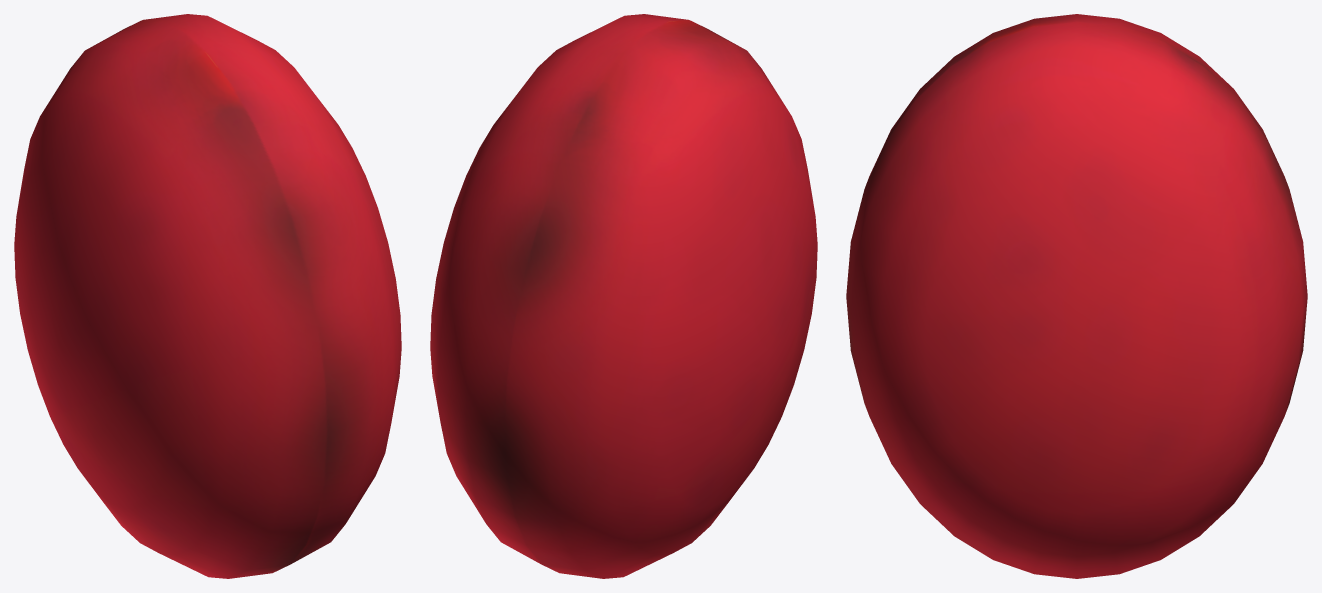
Rendered from SM_Gem_F_Gold.fbx.
3 views of the same model, side by side, from view 1: azimuth 30°, elevation 25°; view 2: azimuth 150°, elevation 25°; view 3: azimuth 270°, elevation 25° (orthographic).
Parts seen in each view (by area): view 1: SM_Gem_F_Gold_LOD0; view 2: SM_Gem_F_Gold_LOD0; view 3: SM_Gem_F_Gold_LOD0.
Boxes of the visible parts, <box> form: SM_Gem_F_Gold_LOD0: <box>14,14,401,578</box>; SM_Gem_F_Gold_LOD0: <box>430,14,817,578</box>; SM_Gem_F_Gold_LOD0: <box>846,14,1307,578</box>.
Bounding box in the file's own units: 2.21 × 3.05 × 3.85.
1 material, 1 textured.
